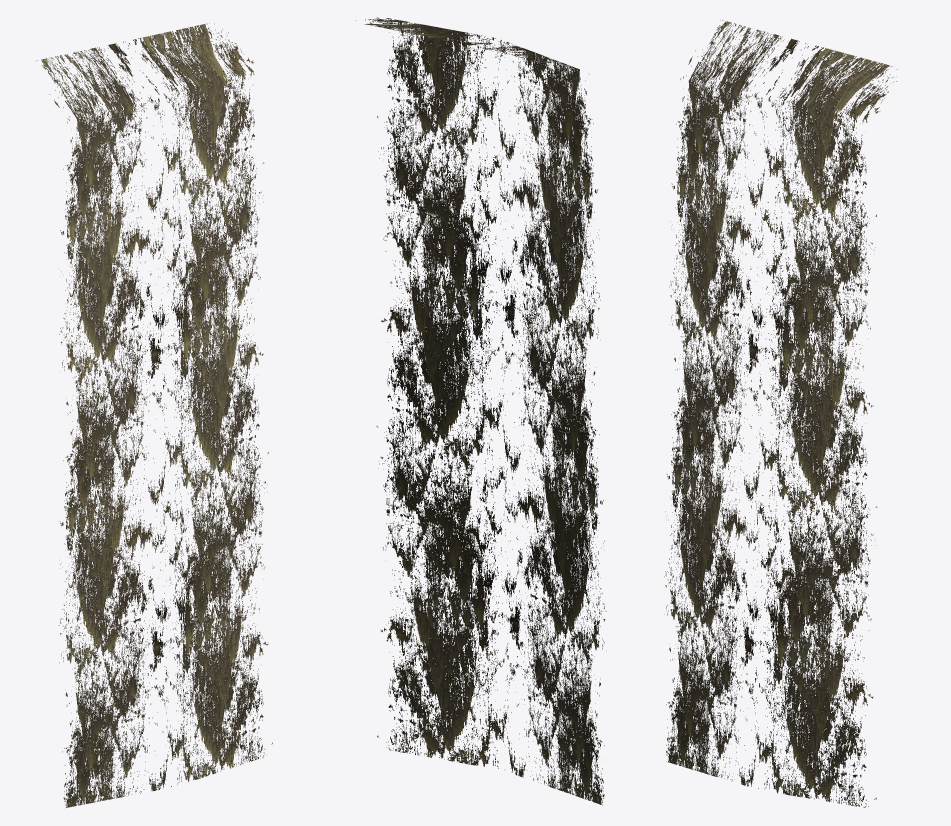
The model's file is Catarata.glb.
3 views of the same model, side by side, from view 1: azimuth 30°, elevation 25°; view 2: azimuth 150°, elevation 25°; view 3: azimuth 330°, elevation 25° (orthographic). The views are drawn at different scales.
Visible parts, largest first — view 1: Plane.024; view 2: Plane.024; view 3: Plane.024.
Boxes of the visible parts, bbox=[...] form: Plane.024: bbox=[37, 23, 272, 807]; Plane.024: bbox=[356, 17, 606, 805]; Plane.024: bbox=[664, 20, 897, 807].
Size of the model in its own units: 0.7092 by 1.97 by 0.2488.
1 material, 1 textured.
